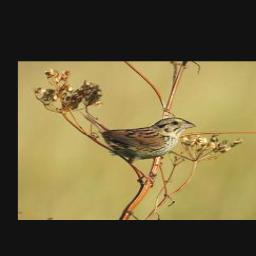Sparrow: (77, 110, 198, 188)
